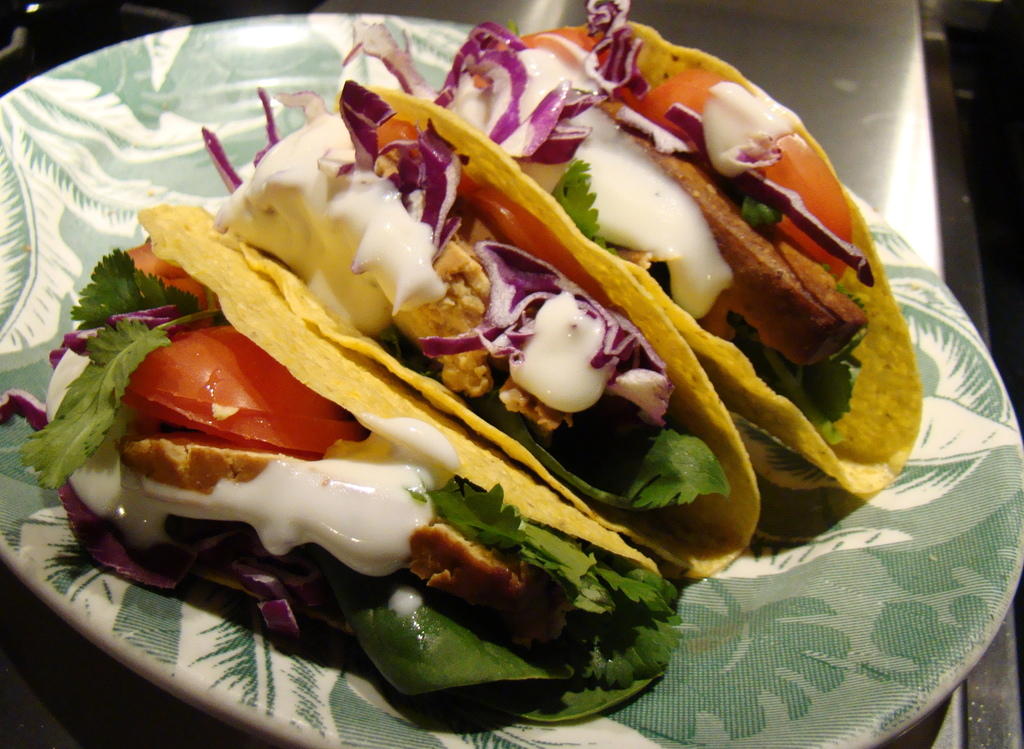taco: (38, 199, 694, 725), (364, 0, 924, 496), (198, 90, 749, 588)
